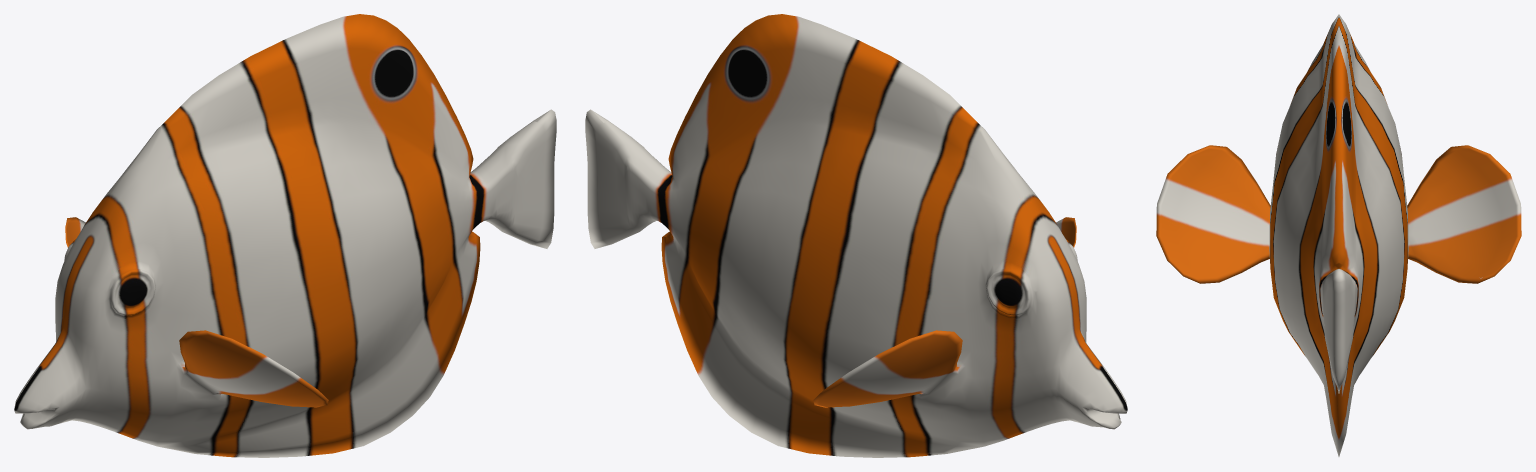
File: fish.glb
The picture shows the model from 3 angles, left to right: view 1: azimuth 30°, elevation 25°; view 2: azimuth 150°, elevation 25°; view 3: azimuth 270°, elevation 25°; orthographic projection. The views are drawn at different scales.
Visible parts, largest first — view 1: Fish; view 2: Fish; view 3: Fish.
Boxes of the visible parts, <box> form: Fish: <box>14,14,556,457</box>; Fish: <box>585,14,1127,457</box>; Fish: <box>1156,14,1521,456</box>.
Bounding box in the file's own units: 2215 × 1695 × 1406.
Materials: 1 (1 with a texture image).
